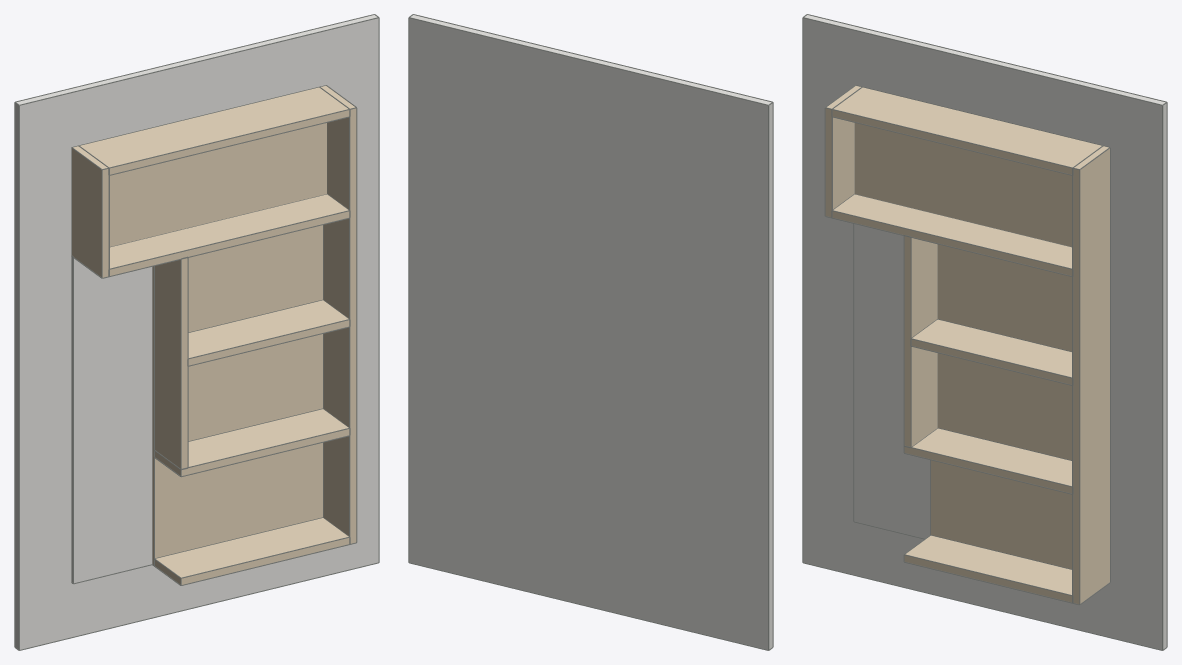
Rendered from modell.glb.
3 views of the same model, side by side, from view 1: azimuth 30°, elevation 25°; view 2: azimuth 150°, elevation 25°; view 3: azimuth 330°, elevation 25° (orthographic).
Size of the model in its own units: 1028 by 1488 by 173.
